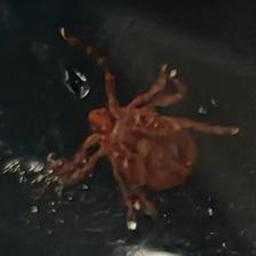Rhipicephalus sanguineus: (51, 27, 239, 223)
